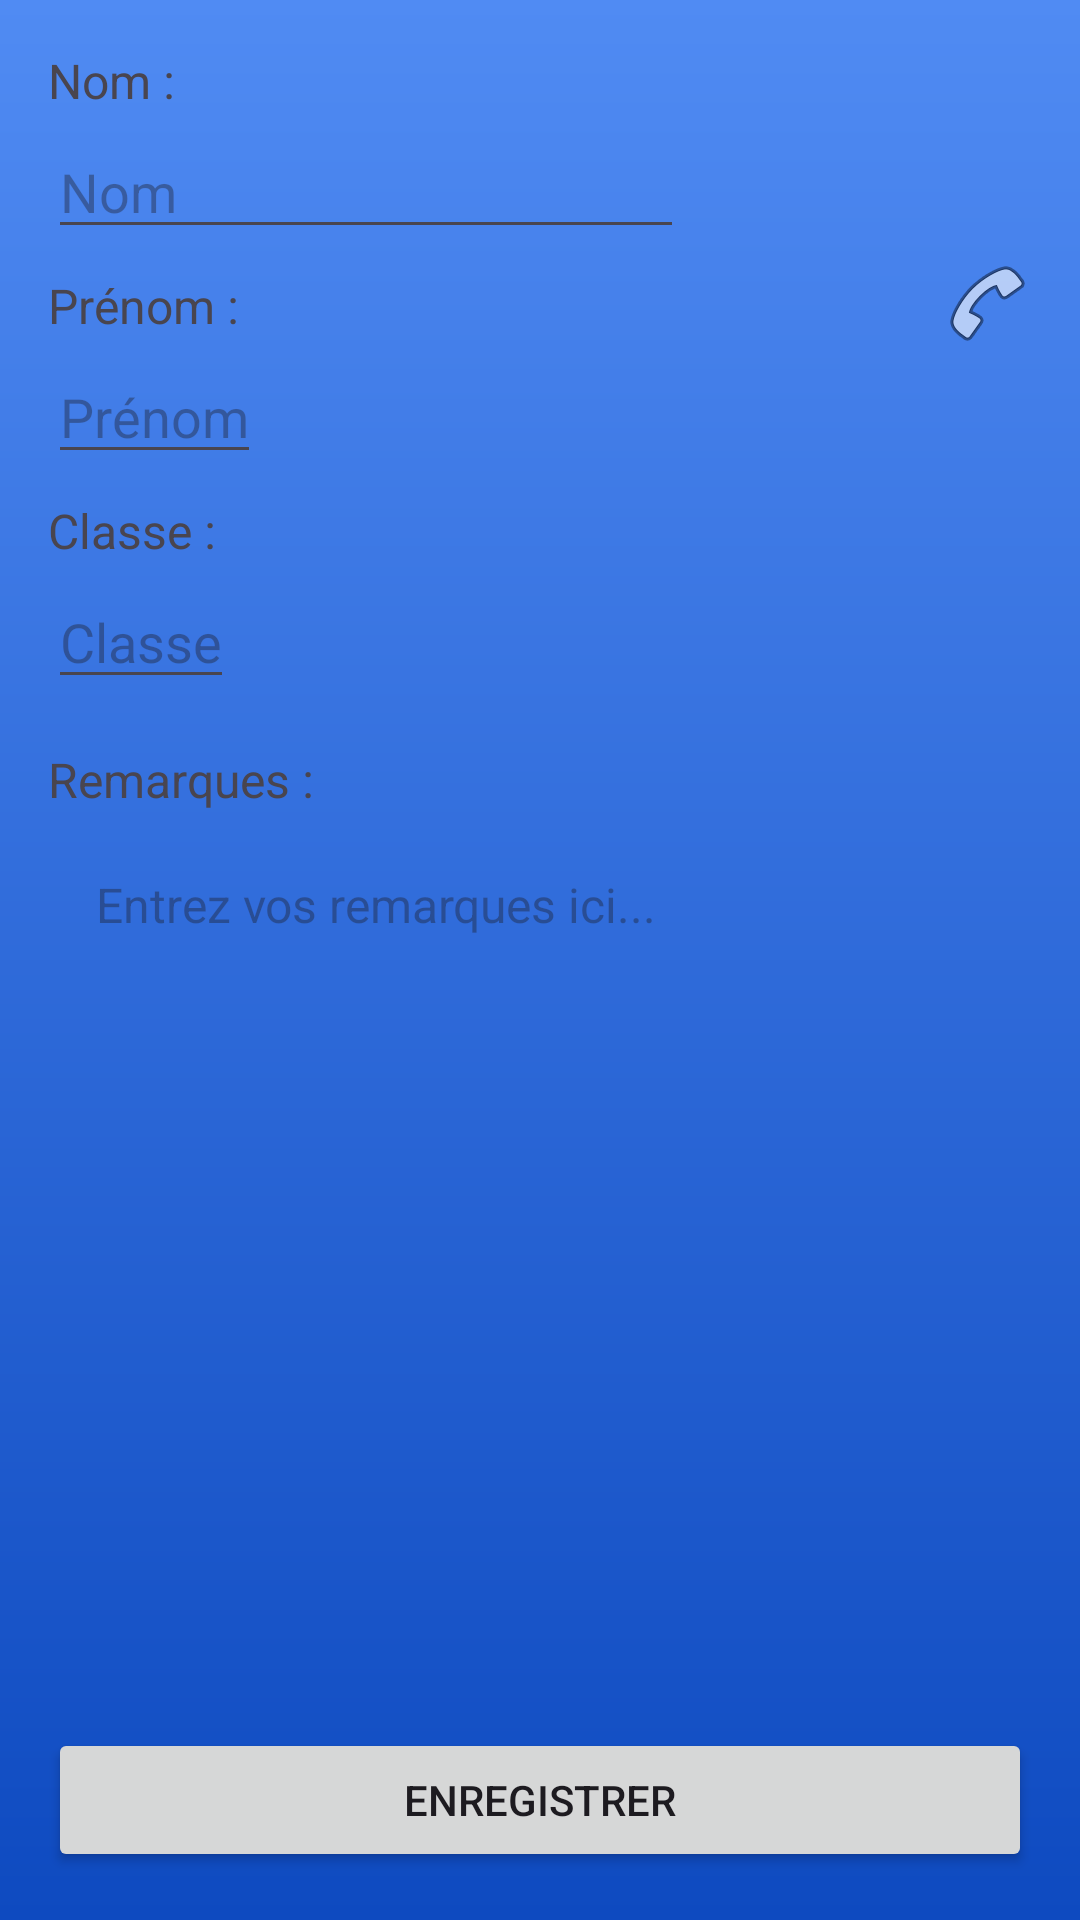

Icons on this 1080 × 1920 Android screen, each with its box as bbox=[x1, y1, x2, y2]:
Call student: bbox=[950, 266, 1025, 341]
